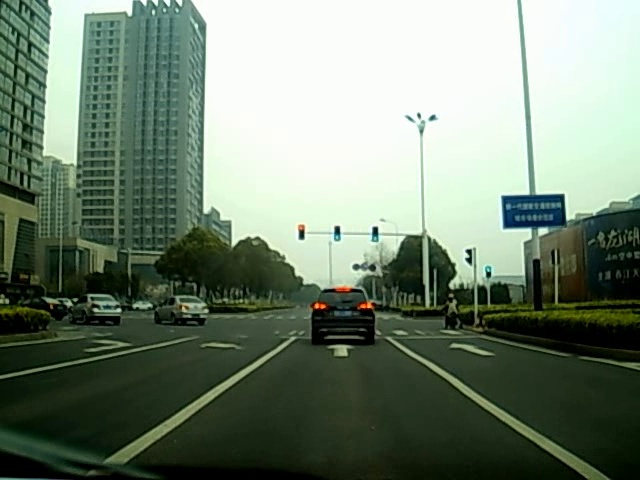Traffic_Light_go: (371, 227, 378, 242), (334, 227, 341, 241)
Traffic_Light_stop: (297, 225, 305, 240)
